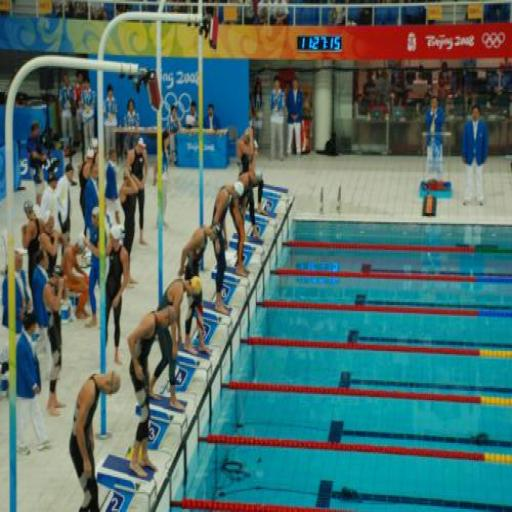swimming: (124, 302, 185, 481), (66, 366, 122, 510), (8, 306, 52, 460), (207, 178, 251, 317), (97, 221, 132, 368)
